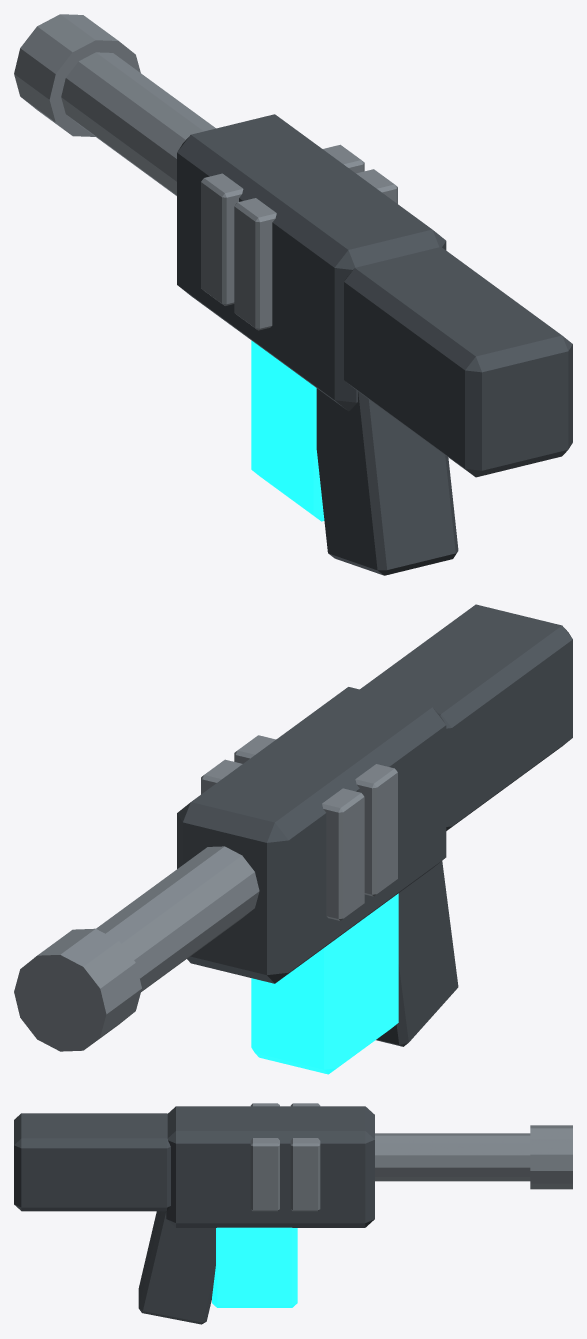
The model's file is WPN_LaserRifle_A_TP_v01.glb.
3 views of the same model, one above another, from view 1: azimuth 30°, elevation 25°; view 2: azimuth 150°, elevation 25°; view 3: azimuth 270°, elevation 25° (orthographic). The views are drawn at different scales.
Parts seen in each view (by area): view 1: MESH_Weapon, MESH_CoolingFins, MESH_EnergyCell; view 2: MESH_Weapon, MESH_EnergyCell, MESH_CoolingFins; view 3: MESH_Weapon, MESH_EnergyCell, MESH_CoolingFins.
Boxes of the visible parts, box(x1,y1,x2,y2) form: MESH_Weapon: box(14, 14, 572, 575); MESH_CoolingFins: box(201, 144, 397, 330); MESH_EnergyCell: box(251, 340, 324, 521); MESH_Weapon: box(14, 604, 572, 1051); MESH_EnergyCell: box(251, 893, 398, 1074); MESH_CoolingFins: box(201, 735, 397, 920); MESH_Weapon: box(14, 1106, 572, 1324); MESH_EnergyCell: box(212, 1227, 297, 1307); MESH_CoolingFins: box(250, 1103, 320, 1211).
Bounding box in the file's own units: 0.185 × 0.4042 × 1.04.
